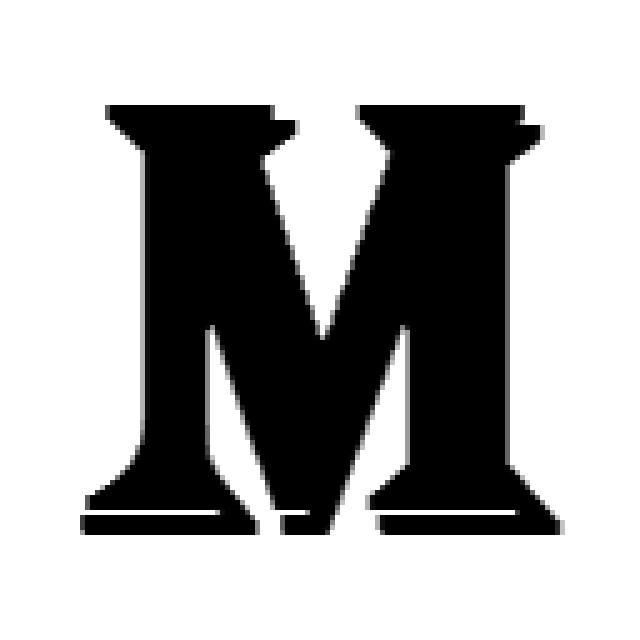M: (64, 100, 582, 543)
